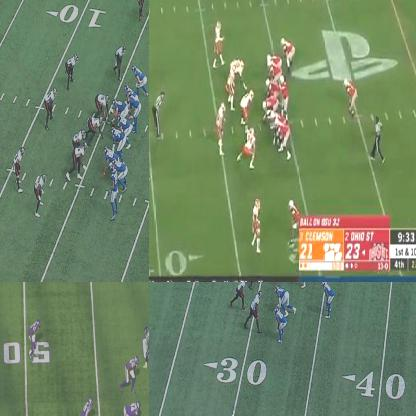CENTER: (261, 94, 279, 123), (111, 99, 124, 124)
DB: (35, 174, 47, 217), (29, 319, 42, 357), (12, 149, 24, 187), (252, 200, 261, 245), (276, 310, 286, 346), (136, 0, 148, 22)
LB: (69, 141, 89, 180), (216, 104, 227, 152), (44, 86, 57, 125), (112, 43, 127, 76), (214, 22, 224, 67), (322, 282, 333, 318), (228, 68, 237, 108), (66, 53, 78, 82), (82, 396, 94, 415)
QB: (127, 91, 141, 125), (280, 76, 290, 112)
SKILL: (110, 166, 120, 224), (345, 80, 359, 119), (113, 155, 126, 189), (281, 37, 295, 68), (250, 294, 261, 327), (135, 66, 147, 93), (105, 147, 115, 178), (237, 282, 247, 308), (141, 326, 148, 361), (288, 202, 299, 224), (267, 52, 281, 67)
